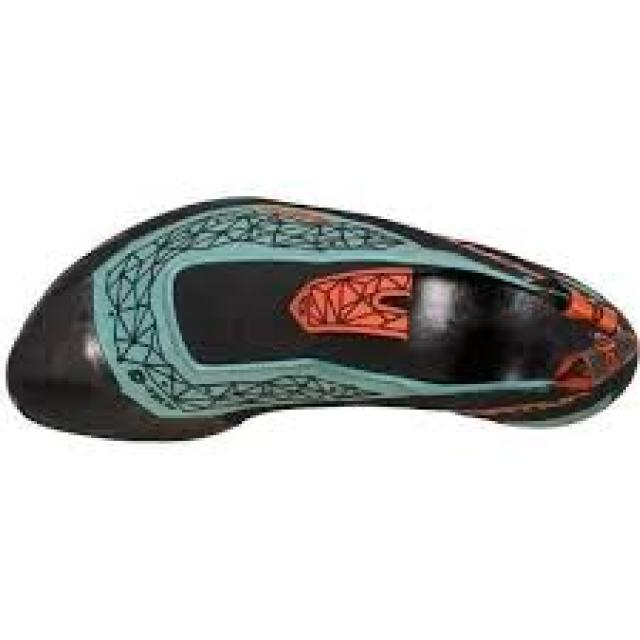climbing-shoes: (6, 198, 639, 441)
